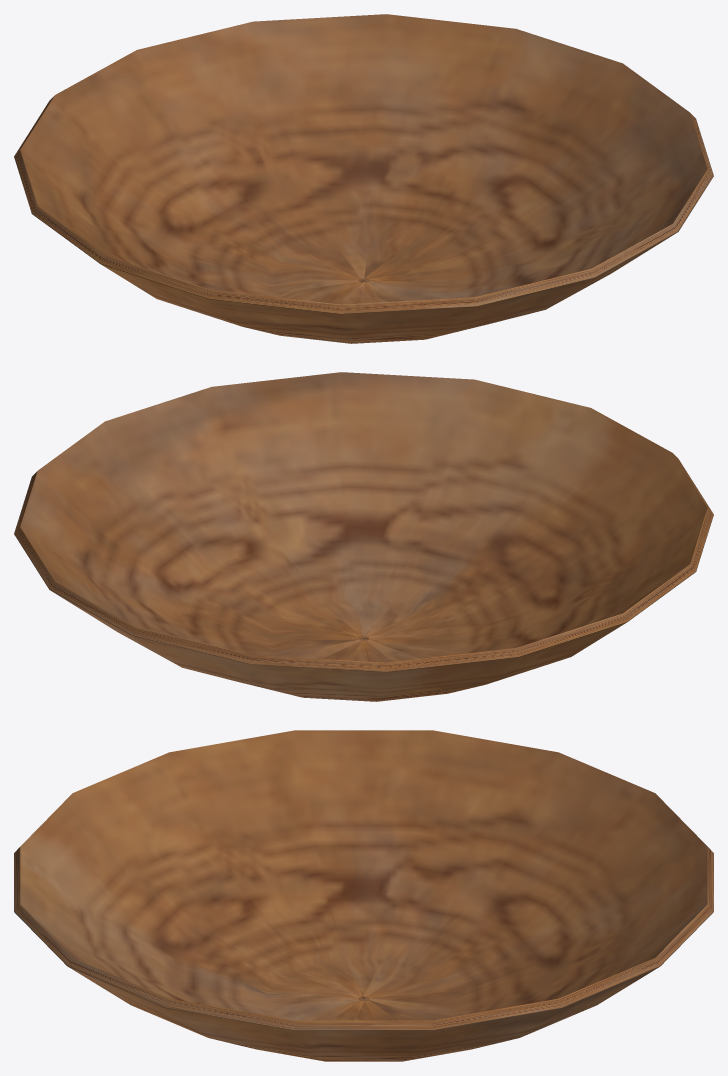
The model's file is plate_turned.glb.
3 views of the same model, one above another, from view 1: azimuth 30°, elevation 25°; view 2: azimuth 150°, elevation 25°; view 3: azimuth 270°, elevation 25° (orthographic).
Parts seen in each view (by area): view 1: Object_34; view 2: Object_34; view 3: Object_34.
Part boxes in pixels (left/top/right/bottom): Object_34: left=14, top=14, right=713, bottom=343; Object_34: left=14, top=372, right=713, bottom=701; Object_34: left=14, top=730, right=713, bottom=1061.
Bounding box in the file's own units: 0.2997 × 0.0625 × 0.2997.
1 material, 1 textured.
